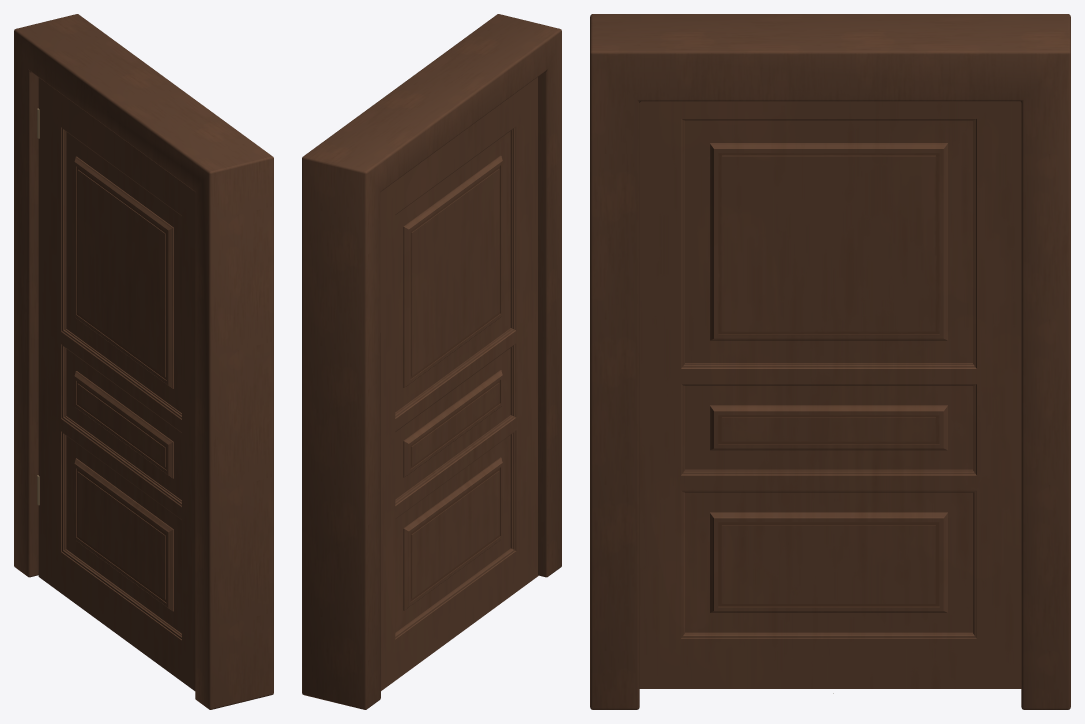
The model's file is Door.fbx.
3 renders of one model, left to right at view 1: azimuth 30°, elevation 25°; view 2: azimuth 150°, elevation 25°; view 3: azimuth 270°, elevation 25°, orthographic. The views are drawn at different scales.
Visible parts, largest first — view 1: Door, Door Frame; view 2: Door, Door Frame; view 3: Door, Door Frame.
Boxes of the visible parts, x1,y1,x2,y2 form: Door: [38, 77, 195, 690]; Door Frame: [14, 14, 273, 709]; Door: [380, 77, 538, 690]; Door Frame: [302, 14, 561, 709]; Door: [639, 101, 1021, 688]; Door Frame: [590, 14, 1070, 709].
Bounding box in the file's own units: 33.19 × 263 × 174.
